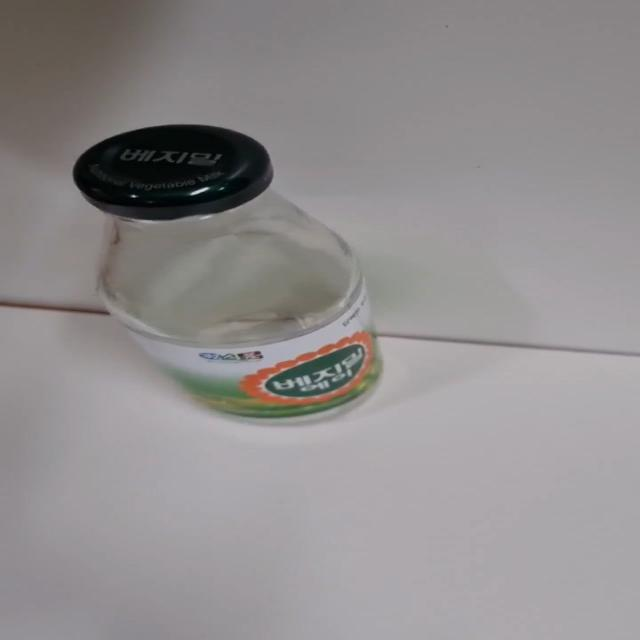Glass: (70, 125, 384, 426)
